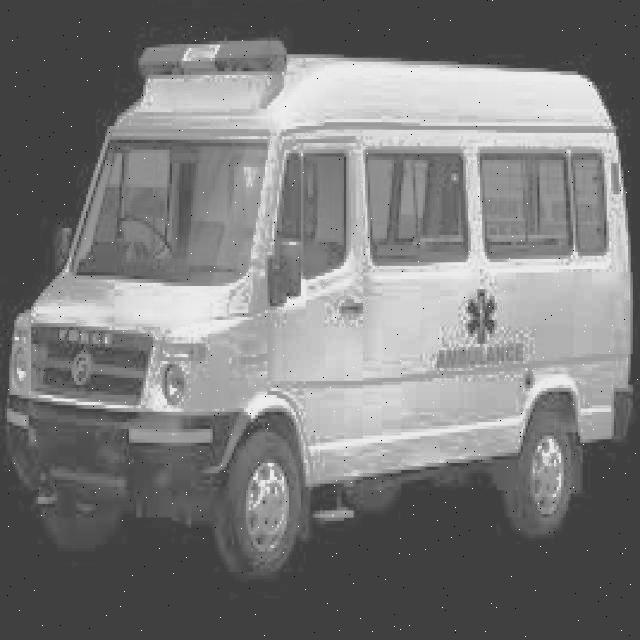LCV: (8, 34, 302, 496)
